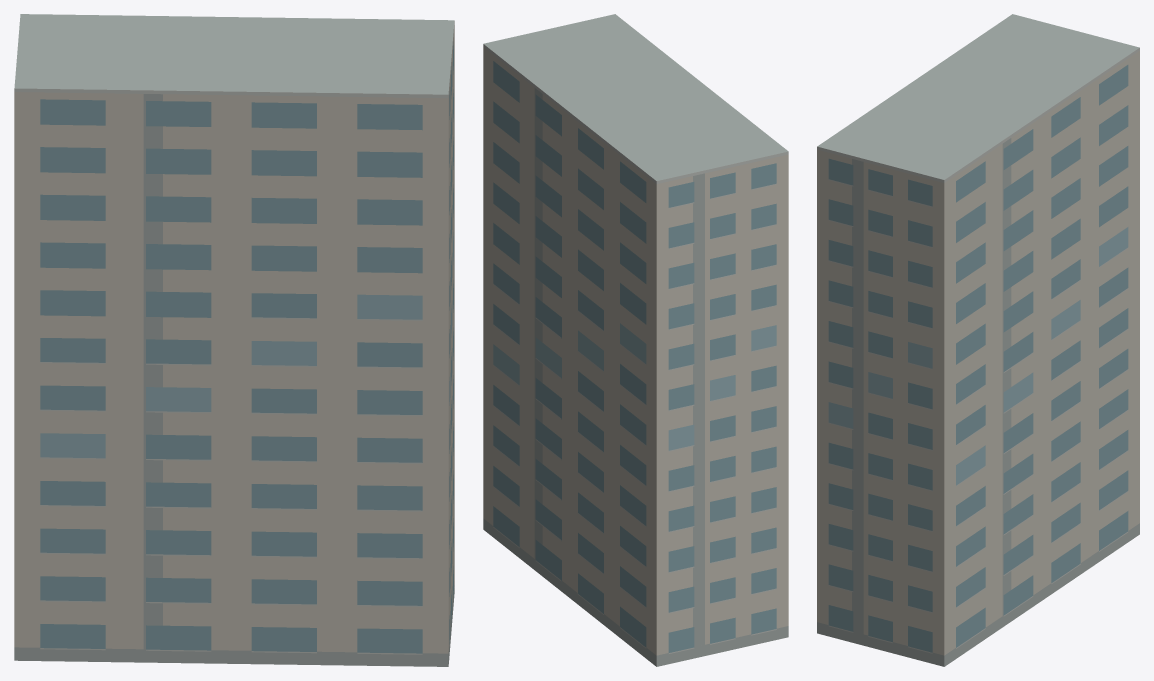
File: residential-6164d9c1-b25c-4b5b-9e1c-d342c6ad9155.glb
3 renders of one model, left to right at view 1: azimuth 30°, elevation 25°; view 2: azimuth 150°, elevation 25°; view 3: azimuth 270°, elevation 25°, orthographic. The views are drawn at different scales.
Parts seen in each view (by area): view 1: residential-6164d9c1-b25c-4b5b-9e1c-d342c6ad9155.tmp; view 2: residential-6164d9c1-b25c-4b5b-9e1c-d342c6ad9155.tmp; view 3: residential-6164d9c1-b25c-4b5b-9e1c-d342c6ad9155.tmp.
Boxes of the visible parts, x1,y1,x2,y2 form: residential-6164d9c1-b25c-4b5b-9e1c-d342c6ad9155.tmp: (14, 14, 454, 666); residential-6164d9c1-b25c-4b5b-9e1c-d342c6ad9155.tmp: (483, 14, 788, 666); residential-6164d9c1-b25c-4b5b-9e1c-d342c6ad9155.tmp: (817, 14, 1139, 666).
Size of the model in its own units: 28.54 by 39 by 23.44.
